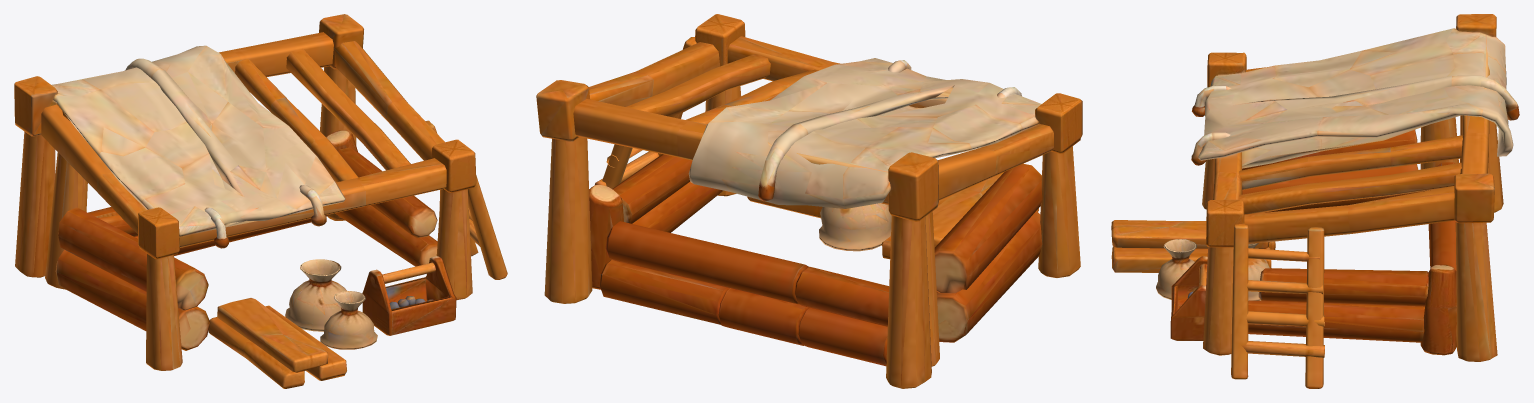
File: scaffold.glb
The picture shows the model from 3 angles, left to right: view 1: azimuth 30°, elevation 25°; view 2: azimuth 150°, elevation 25°; view 3: azimuth 270°, elevation 25°; orthographic projection. The views are drawn at different scales.
Size of the model in its own units: 1 by 0.5032 by 0.9508.
1 material, 1 textured.
